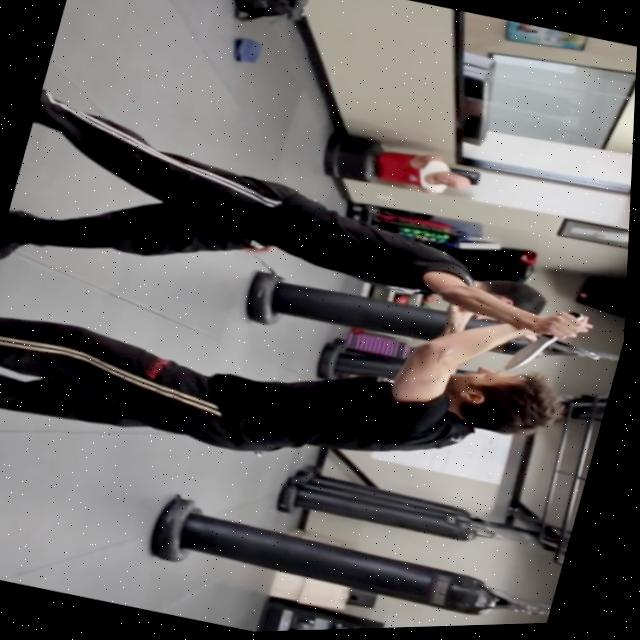knife: (503, 329, 562, 384)
